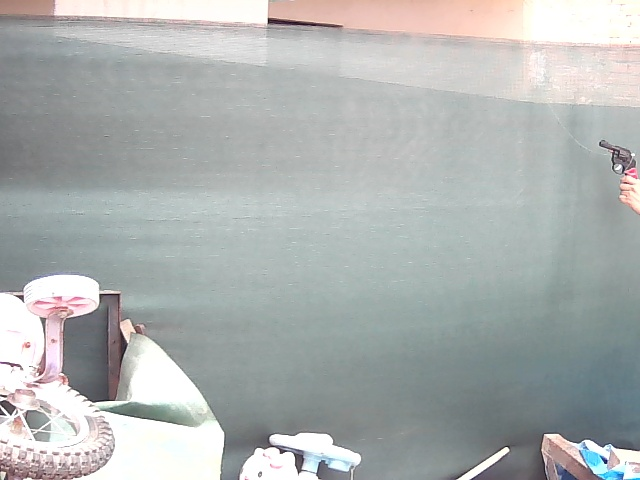pistola: (592, 136, 640, 178)
